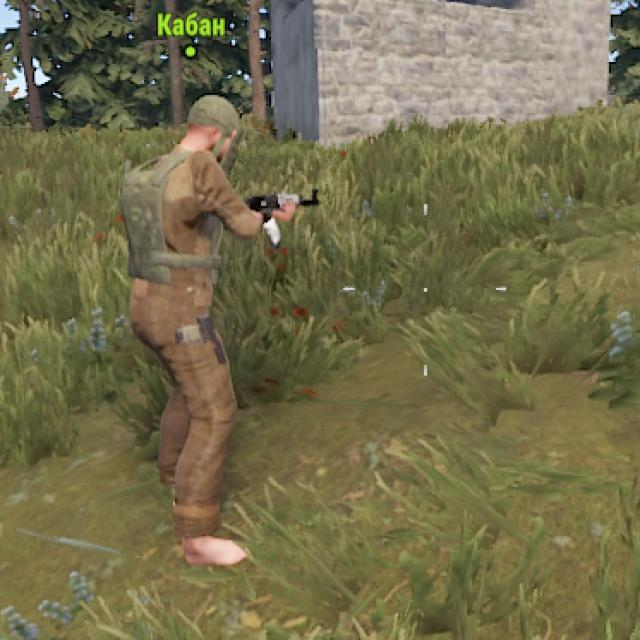Player: (120, 96, 268, 565)
